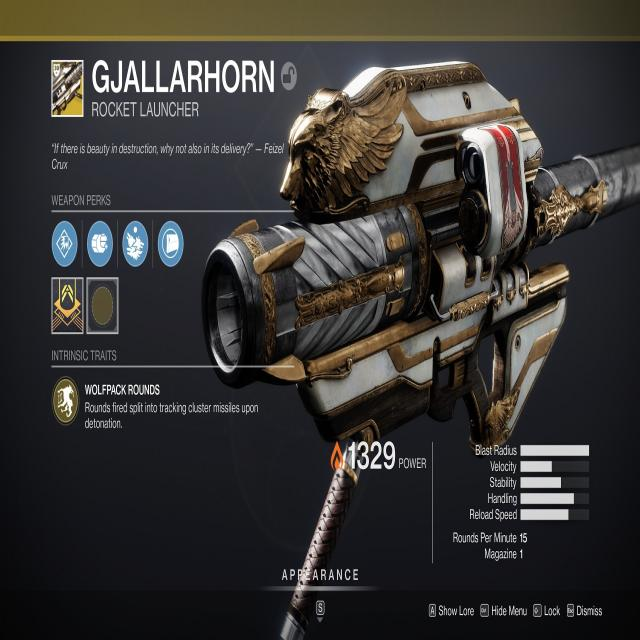bazooka: (197, 124, 640, 435)
